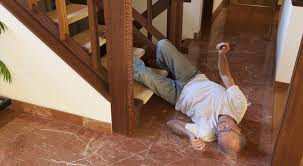falling: (127, 37, 246, 155)
